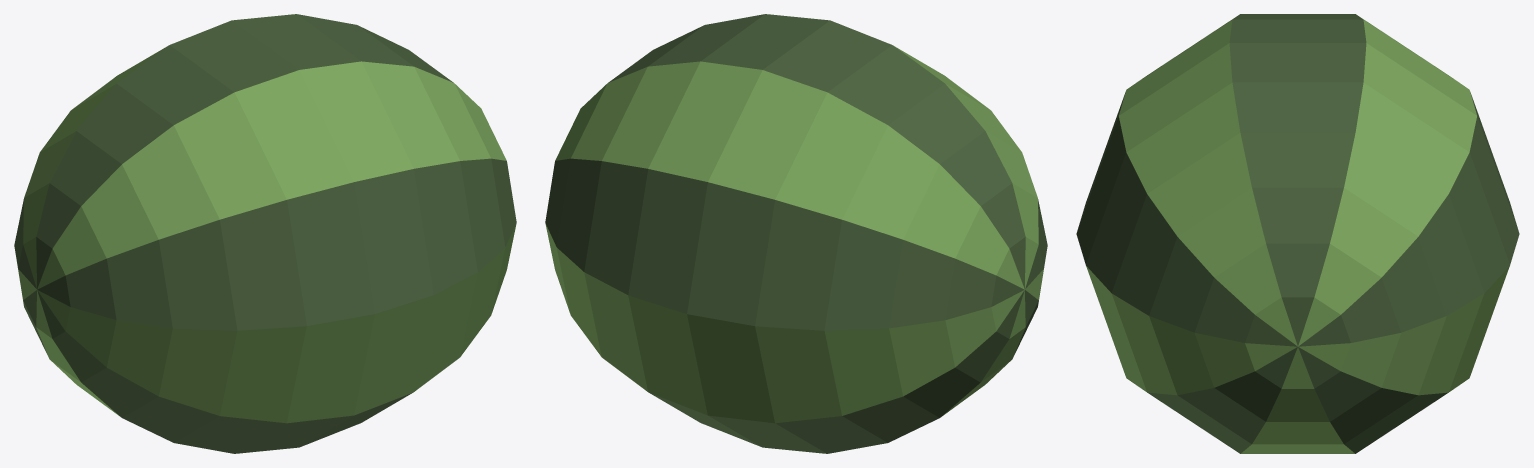
File: Watermelon_Crop.gltf
The picture shows the model from 3 angles, left to right: view 1: azimuth 30°, elevation 25°; view 2: azimuth 150°, elevation 25°; view 3: azimuth 270°, elevation 25°; orthographic projection.
Parts seen in each view (by area): view 1: Watermelon_Crop; view 2: Watermelon_Crop; view 3: Watermelon_Crop.
Boxes of the visible parts, <box> form: Watermelon_Crop: <box>14,14,516,453</box>; Watermelon_Crop: <box>545,14,1047,453</box>; Watermelon_Crop: <box>1076,14,1519,453</box>.
Bounding box in the file's own units: 0.4443 × 0.351 × 0.369.
